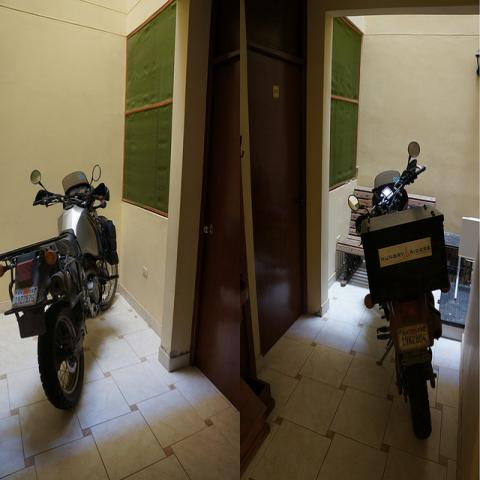motorcycle: (6, 175, 121, 403), (358, 144, 445, 438)
